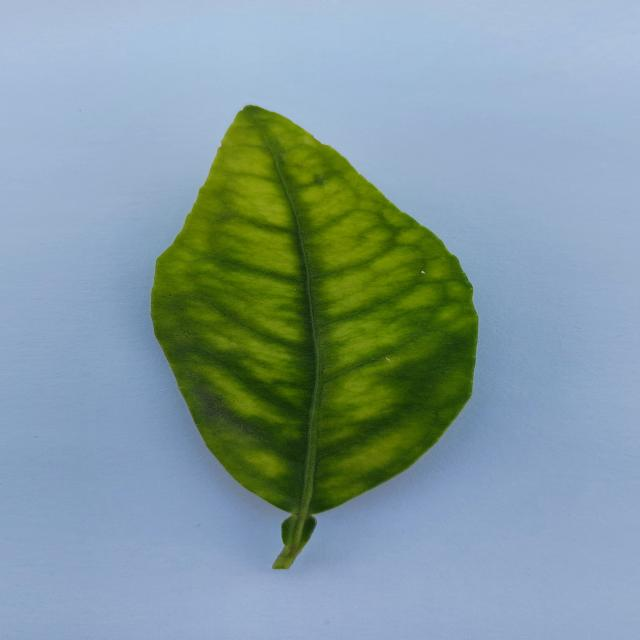greening: (152, 106, 477, 569)
